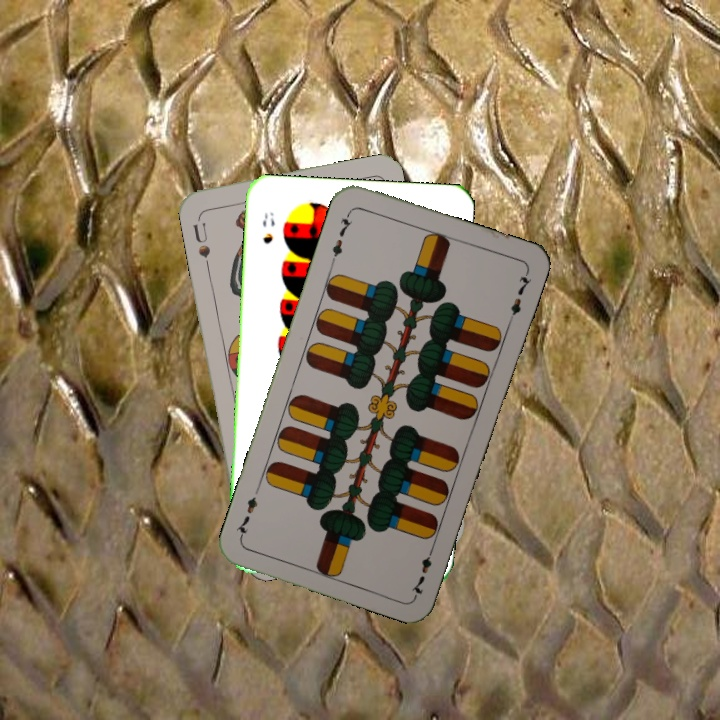E7: (407, 541, 437, 598), (327, 208, 356, 265)
S8: (258, 208, 277, 247)
SU: (189, 219, 213, 260)
